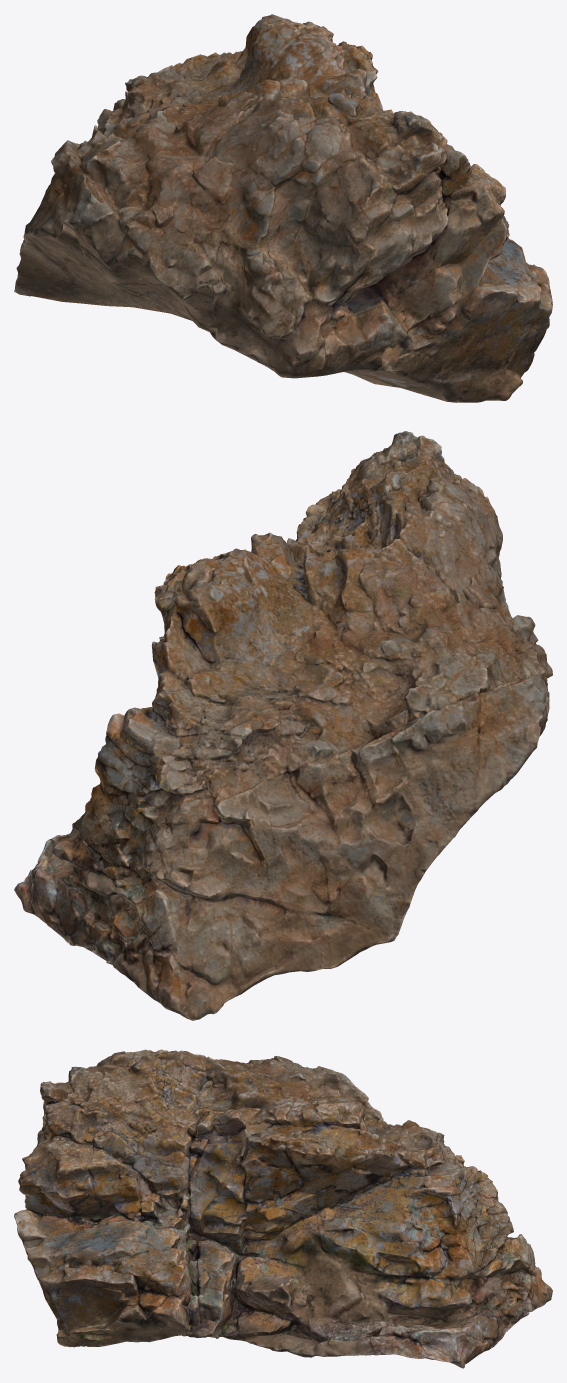
Rendered from boulder_01.glb.
3 views of the same model, one above another, from view 1: azimuth 30°, elevation 25°; view 2: azimuth 150°, elevation 25°; view 3: azimuth 270°, elevation 25° (orthographic). The views are drawn at different scales.
Parts seen in each view (by area): view 1: boulder_01; view 2: boulder_01; view 3: boulder_01.
Boxes of the visible parts, <box> form: boulder_01: <box>14,14,552,402</box>; boulder_01: <box>14,431,552,1020</box>; boulder_01: <box>14,1049,552,1368</box>.
Size of the model in its own units: 1.27 by 1 by 1.83.
Materials: 1 (1 with a texture image).
